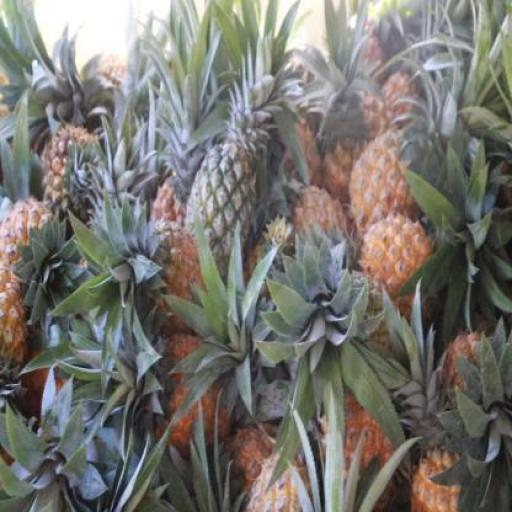Pineapple - v8 v1: (350, 136, 420, 238), (363, 219, 435, 308)
